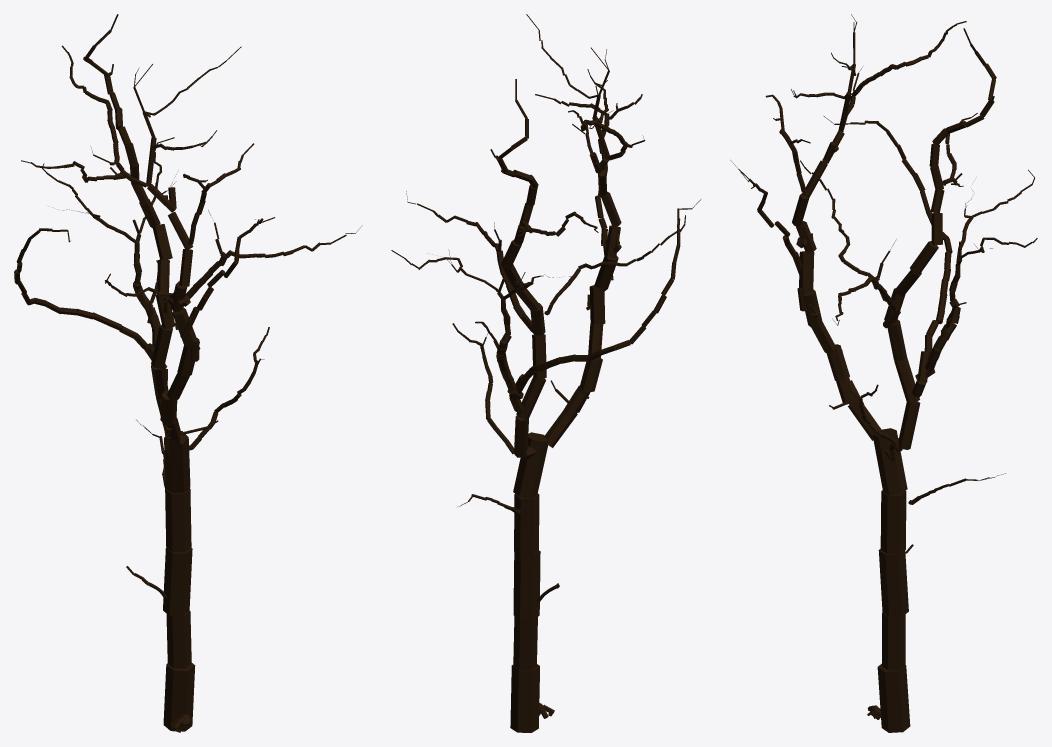
Rendered from 2022_tree_530_no_leaf.obj.
The picture shows the model from 3 angles, left to right: view 1: azimuth 30°, elevation 25°; view 2: azimuth 150°, elevation 25°; view 3: azimuth 270°, elevation 25°; orthographic projection.
Parts seen in each view (by area): view 1: TrunkAndBranches; view 2: TrunkAndBranches; view 3: TrunkAndBranches.
Part boxes in pixels (x1,y1,x2,y2): TrunkAndBranches: [14, 14, 362, 732]; TrunkAndBranches: [391, 14, 700, 732]; TrunkAndBranches: [730, 14, 1037, 732].
Bounding box in the file's own units: 7.23 × 15.55 × 6.28.
